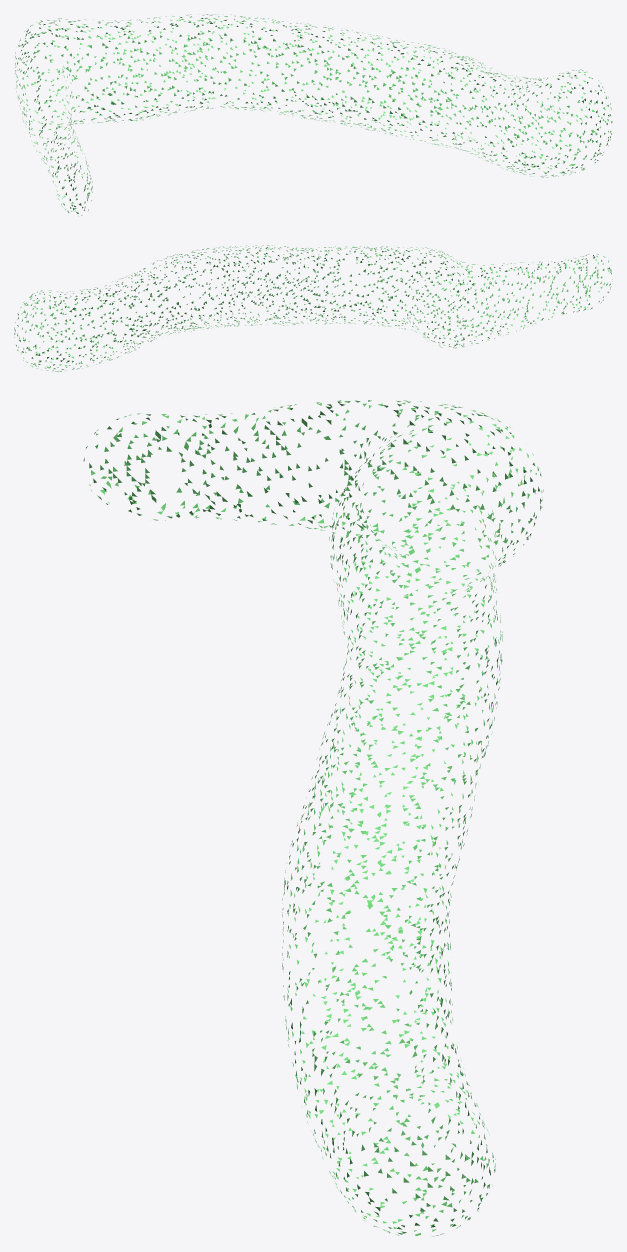
Rendered from morph_018.glb.
3 views of the same model, one above another, from view 1: azimuth 30°, elevation 25°; view 2: azimuth 150°, elevation 25°; view 3: azimuth 270°, elevation 25° (orthographic). The views are drawn at different scales.
Size of the model in its own units: 145 by 57.36 by 56.86.
